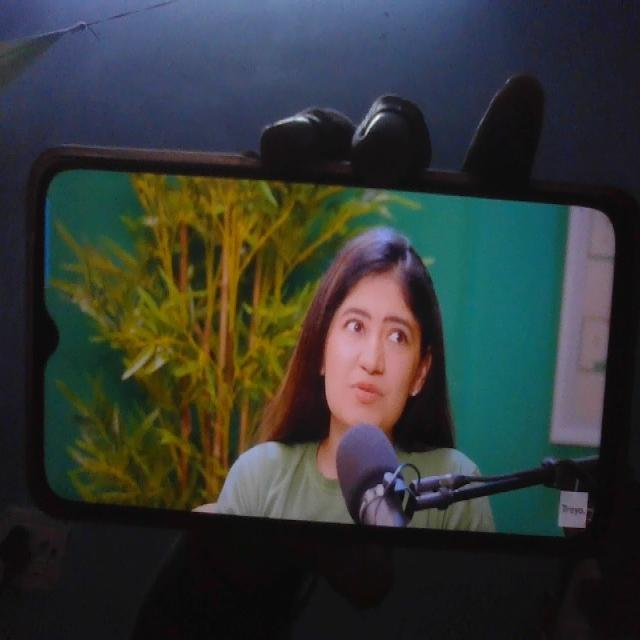fake: (321, 235, 426, 433)
